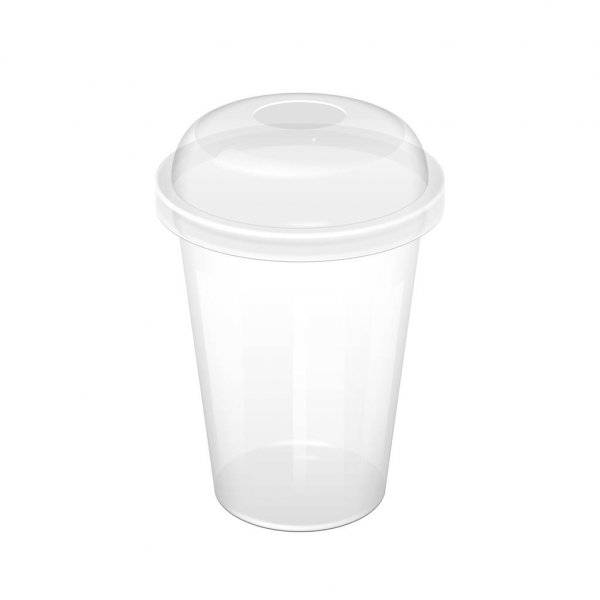plastic_glass: (147, 85, 454, 539)
